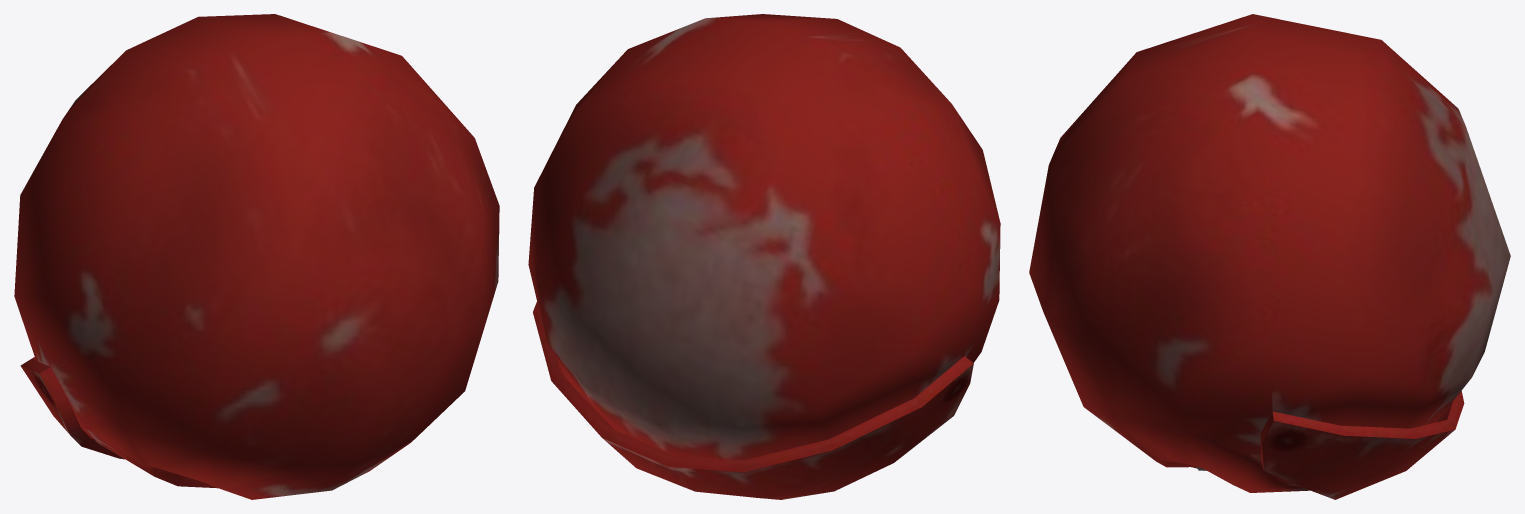
Rendered from murphy_02.obj.
3 views of the same model, side by side, from view 1: azimuth 30°, elevation 25°; view 2: azimuth 150°, elevation 25°; view 3: azimuth 270°, elevation 25° (orthographic). The views are drawn at different scales.
Visible parts, largest first — view 1: Object01, Object02; view 2: Object01, Object02; view 3: Object01, Object02.
Part boxes in pixels (bbox=[...]): Object01: bbox=[14, 14, 499, 499]; Object02: bbox=[20, 357, 124, 459]; Object01: bbox=[528, 14, 1000, 460]; Object02: bbox=[533, 301, 973, 499]; Object01: bbox=[1029, 14, 1510, 492]; Object02: bbox=[1260, 391, 1464, 499].
Bounding box in the file's own units: 20.08 × 19.97 × 19.83.
Materials: 1 (1 with a texture image).
